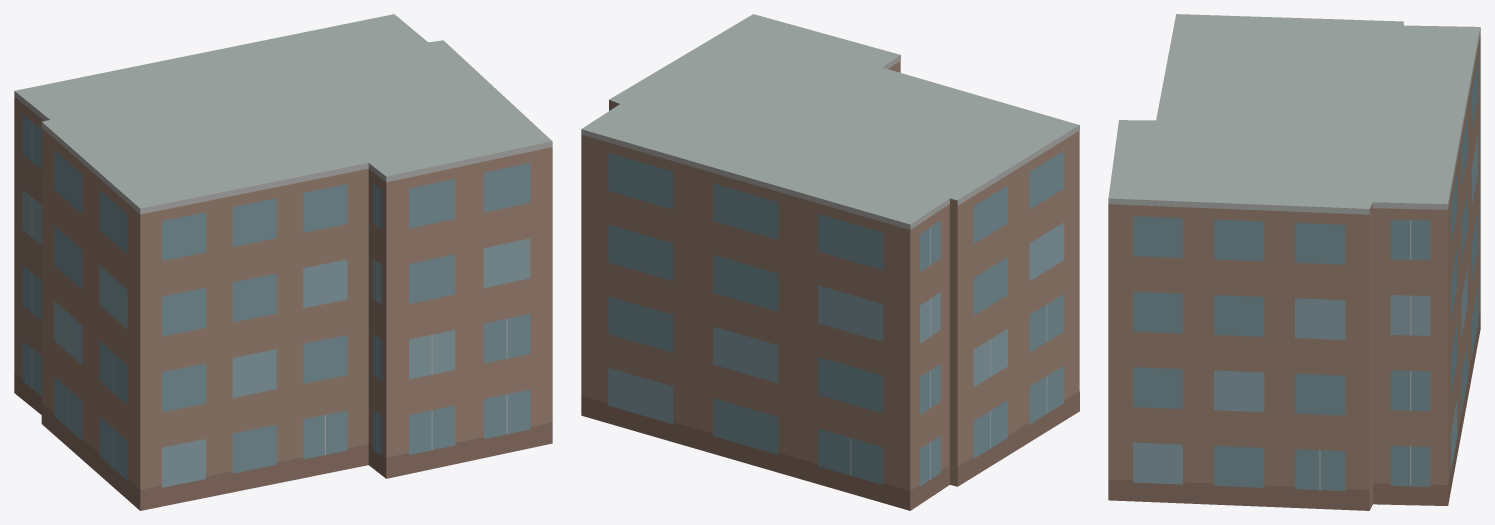
File: survey-upis-32652682.glb
3 views of the same model, side by side, from view 1: azimuth 30°, elevation 25°; view 2: azimuth 150°, elevation 25°; view 3: azimuth 270°, elevation 25° (orthographic). The views are drawn at different scales.
Parts seen in each view (by area): view 1: survey-upis-32652682.tmp; view 2: survey-upis-32652682.tmp; view 3: survey-upis-32652682.tmp.
Part boxes in pixels (x1,y1,x2,y2): survey-upis-32652682.tmp: [14, 14, 552, 510]; survey-upis-32652682.tmp: [581, 14, 1079, 510]; survey-upis-32652682.tmp: [1108, 14, 1480, 510].
Size of the model in its own units: 17.74 by 12.8 by 14.31.
